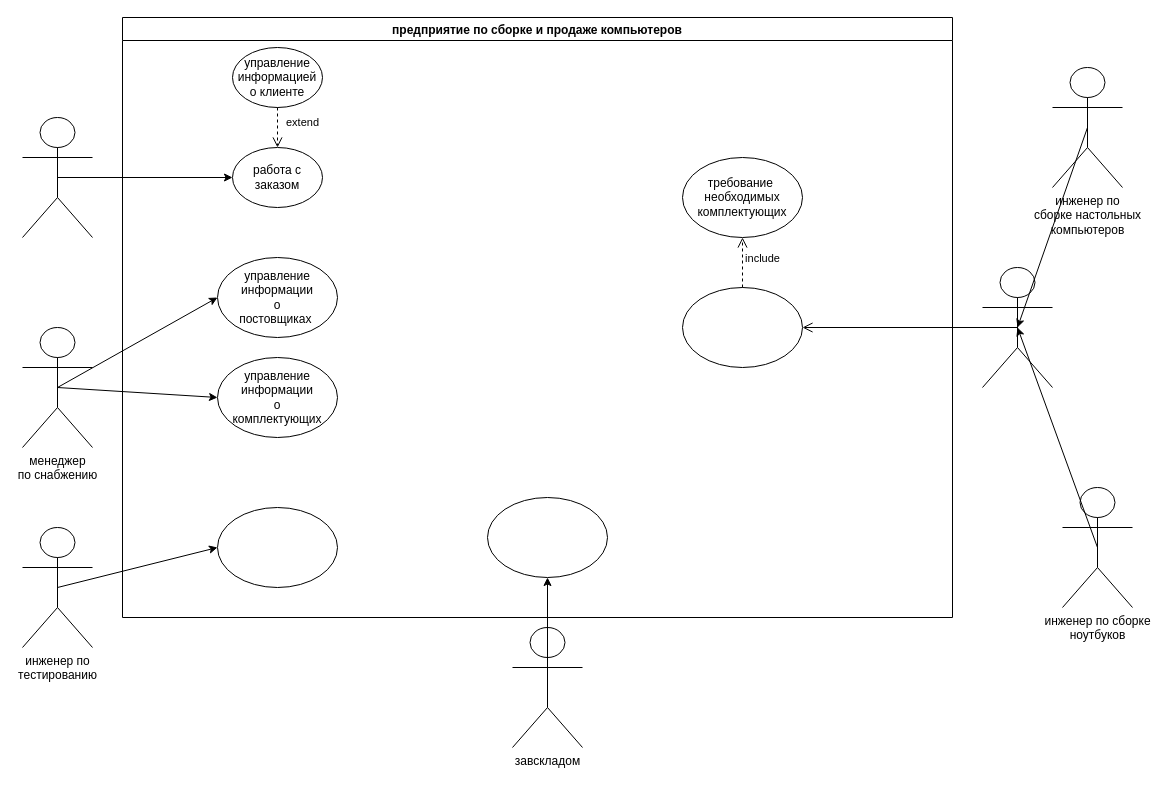
Some shapes in this 1167 by 786 pixel diagram are drawn without their labels. Each missing label, with the box of its shape:
менеджер по работе с клиентами: (22, 116, 92, 238)
менеждер по сборке: (982, 266, 1052, 388)
сборка компьютеров: (682, 286, 802, 368)
тестирование компьютеров: (216, 506, 338, 588)
учет поступления и выдачи комплектующих: (486, 496, 608, 578)
